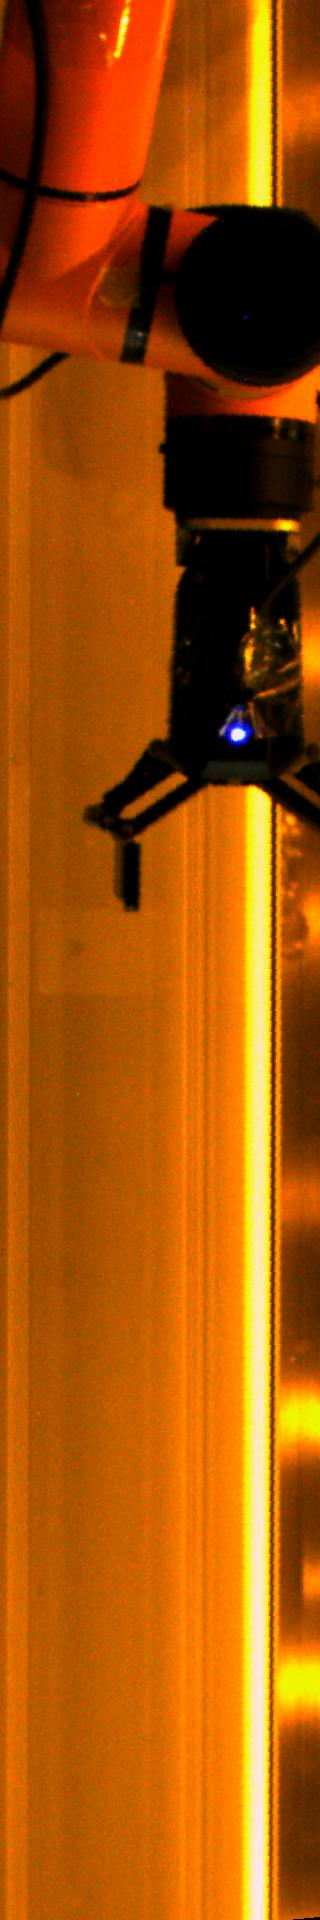keyPoint_1: (223, 719, 253, 749)
